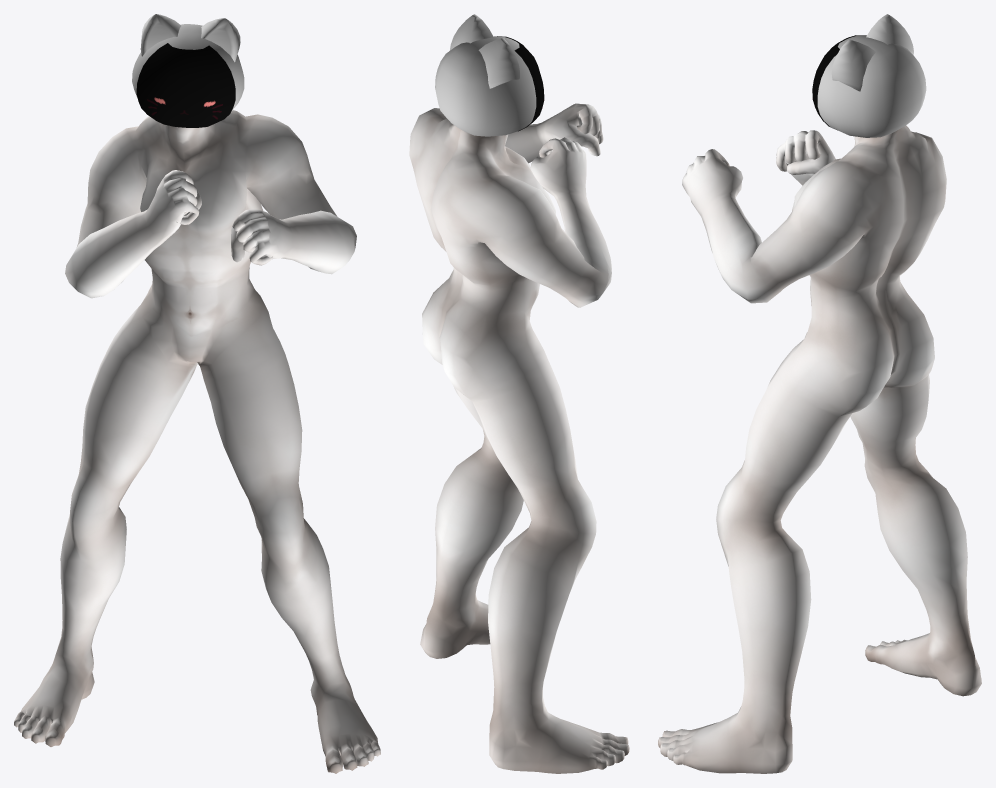
3 renders of one model, left to right at view 1: azimuth 30°, elevation 25°; view 2: azimuth 150°, elevation 25°; view 3: azimuth 270°, elevation 25°, orthographic.
Parts seen in each view (by area): view 1: Muscle_Body, ______?001, Cat_Head; view 2: Muscle_Body, Cat_Head, ______?001; view 3: Muscle_Body, Cat_Head, ______?001.
Part boxes in pixels (x1=…): Muscle_Body: x1=14, y1=110, x2=380, y2=773; ______?001: x1=136, y1=43, x2=235, y2=127; Cat_Head: x1=132, y1=14, x2=244, y2=111; Muscle_Body: x1=409, y1=103, x2=629, y2=773; Cat_Head: x1=435, y1=14, x2=536, y2=136; ______?001: x1=497, y1=36, x2=544, y2=131; Muscle_Body: x1=658, y1=125, x2=981, y2=773; Cat_Head: x1=817, y1=14, x2=926, y2=137; ______?001: x1=812, y1=35, x2=866, y2=130.
Size of the model in its own units: 11.29 by 28.41 by 11.91.
